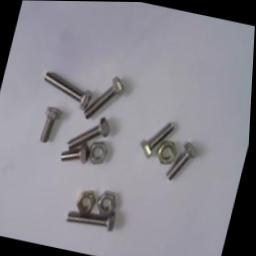Non-corroded Nut: (78, 190, 99, 214), (158, 140, 178, 164), (100, 190, 118, 215), (91, 141, 110, 164)
Non-corroded-Bolts: (44, 71, 124, 119), (63, 117, 111, 164), (142, 123, 176, 158), (68, 209, 119, 232), (170, 141, 199, 178), (42, 107, 64, 142)
